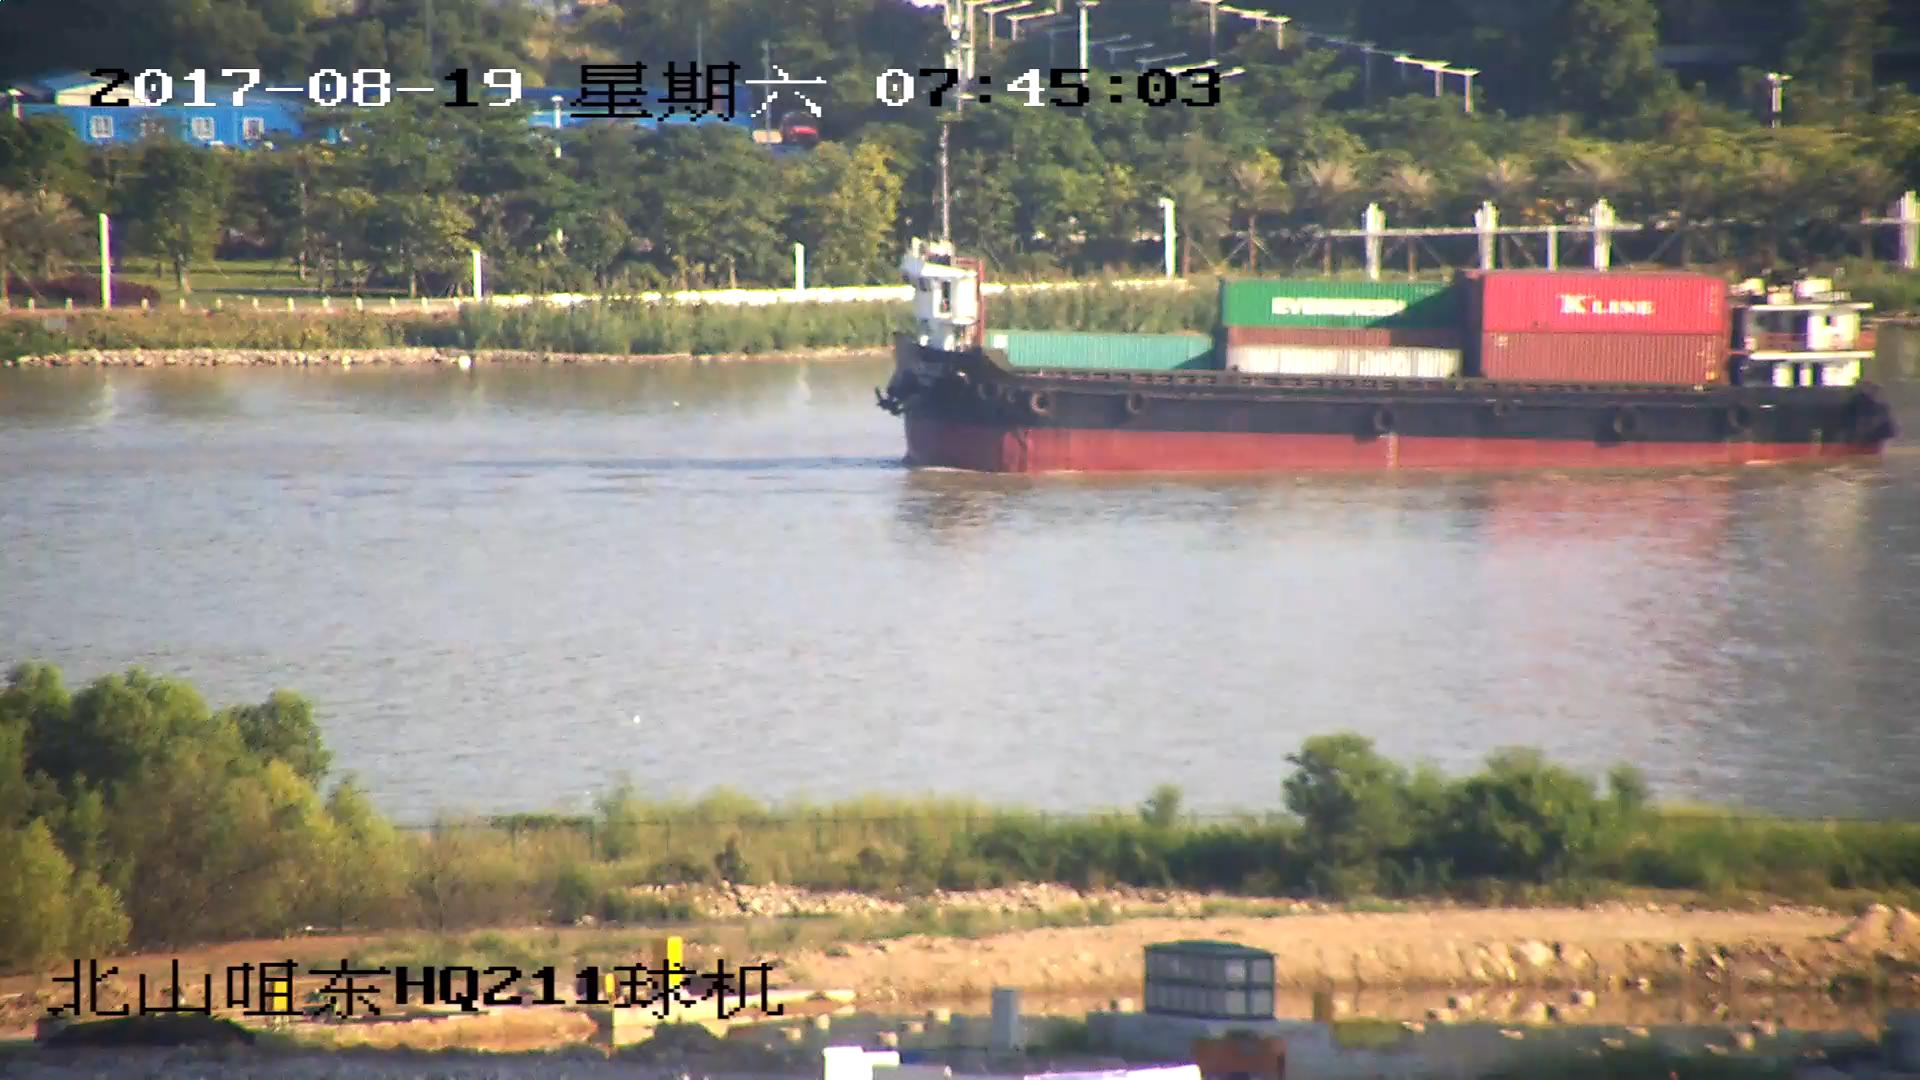container ship: (871, 209, 1895, 478)
